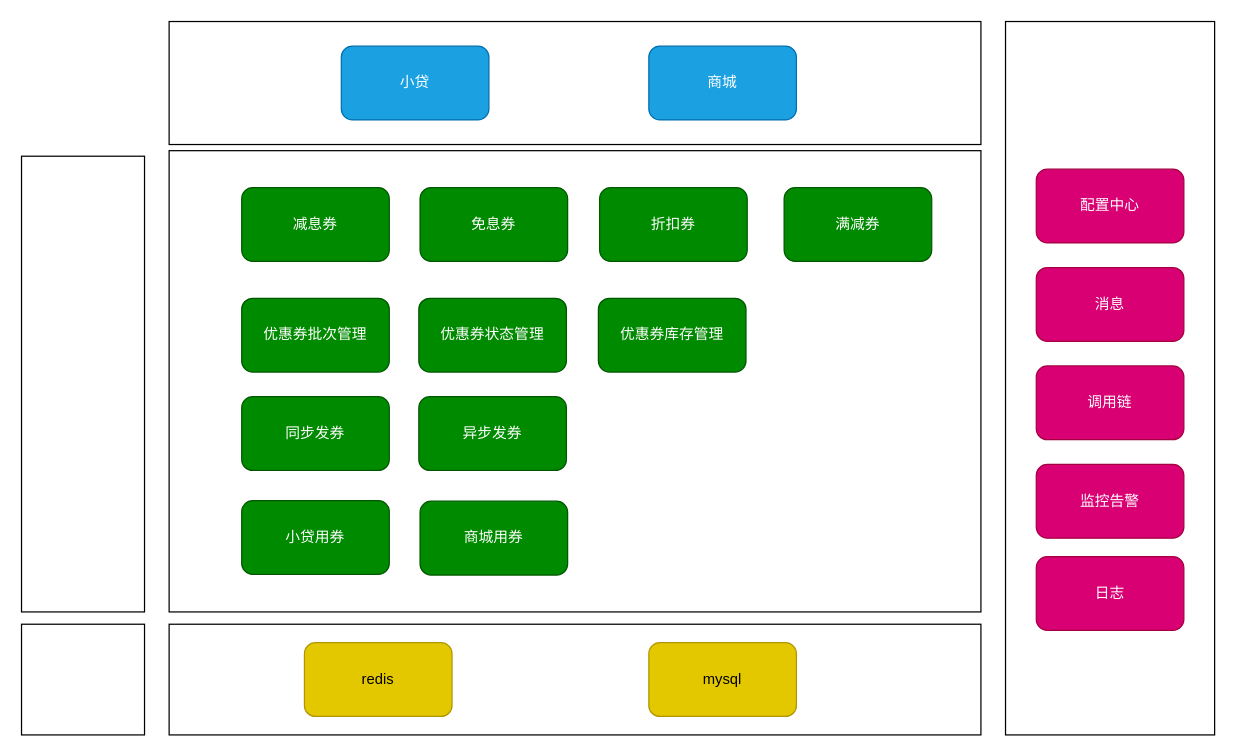
Some shapes in this 1236 by 756 pixel diagram are drawn without their labels. Here are the shapes that lost their labels. From the top down, the centre of each, then its label:
At point (82, 383): "营销卡券工厂".
At point (82, 679): "存储".
